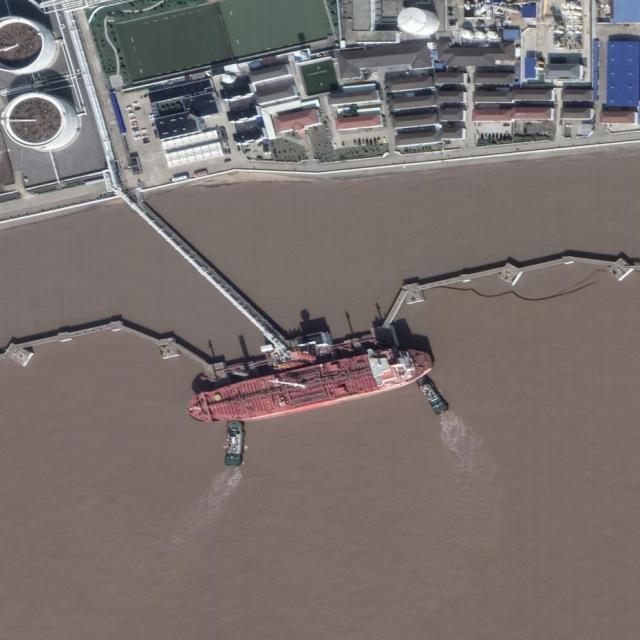Oil Tanker: (185, 339, 437, 438)
Other Ship: (415, 374, 449, 416), (224, 421, 245, 467)
